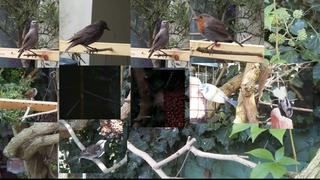blue tit: (198, 83, 239, 107)
dunnock: (20, 88, 37, 100)
long tailed tit: (281, 83, 293, 118)
mouse: (153, 88, 165, 110)
robin: (192, 13, 244, 56)
sparrow: (68, 140, 107, 163)
starling: (65, 20, 110, 54), (148, 20, 170, 59), (18, 20, 39, 59)
